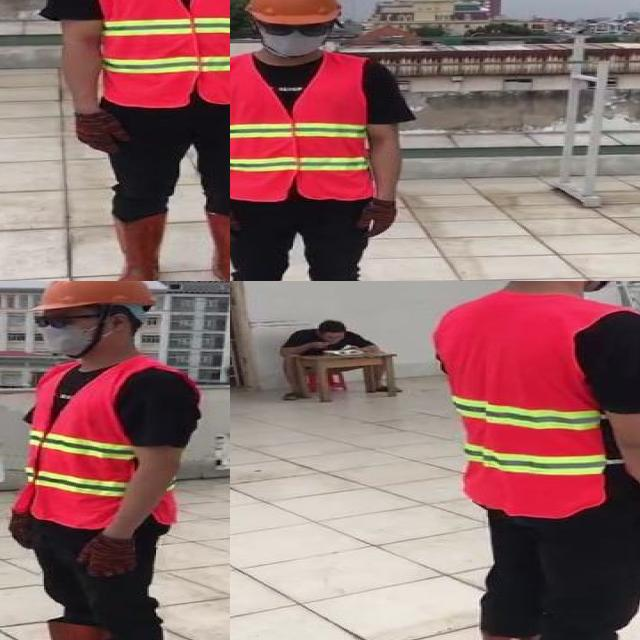boots: (105, 212, 167, 281), (197, 206, 230, 281), (0, 619, 106, 640)
face_mask: (34, 309, 96, 353), (261, 18, 329, 56)
glasses: (258, 20, 335, 40), (27, 311, 77, 332)
hand_glove: (76, 535, 135, 577), (76, 112, 133, 155), (354, 203, 396, 240), (230, 204, 241, 242)
head_helmet: (38, 281, 156, 310), (249, 0, 341, 24)
person: (419, 281, 640, 640), (0, 281, 211, 640), (48, 0, 230, 281), (230, 0, 402, 281)
vest: (435, 291, 616, 517), (19, 361, 177, 531), (230, 53, 372, 200), (81, 0, 230, 106)
